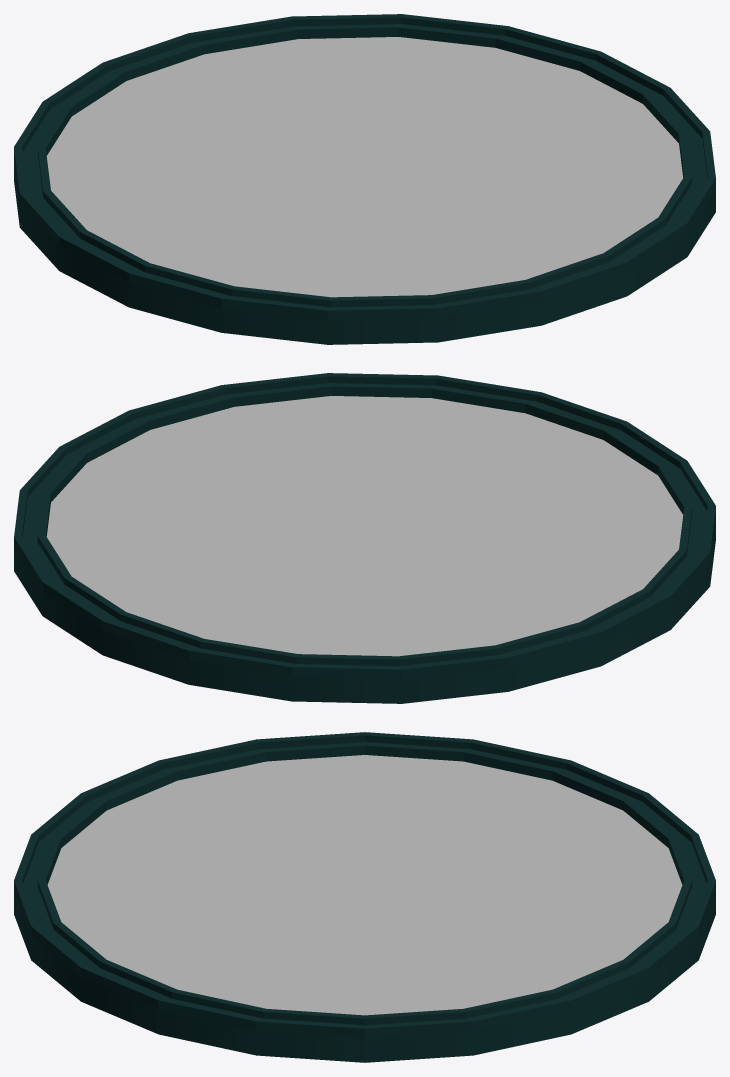
The model's file is Hologram.fbx.
The picture shows the model from 3 angles, top to bottom: view 1: azimuth 30°, elevation 25°; view 2: azimuth 150°, elevation 25°; view 3: azimuth 270°, elevation 25°; orthographic projection.
Parts seen in each view (by area): view 1: pCylinder1; view 2: pCylinder1; view 3: pCylinder1.
Boxes of the visible parts, x1,y1,x2,y2 form: pCylinder1: (14, 14, 715, 344); pCylinder1: (14, 373, 715, 703); pCylinder1: (14, 732, 715, 1062).
Bounding box in the file's own units: 1266 × 67.71 × 1266.
